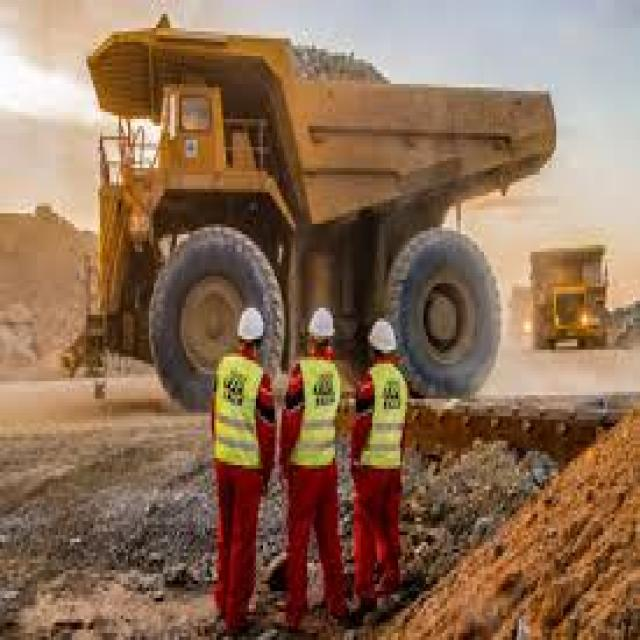dump_truck: (86, 7, 561, 416), (517, 207, 635, 396)
